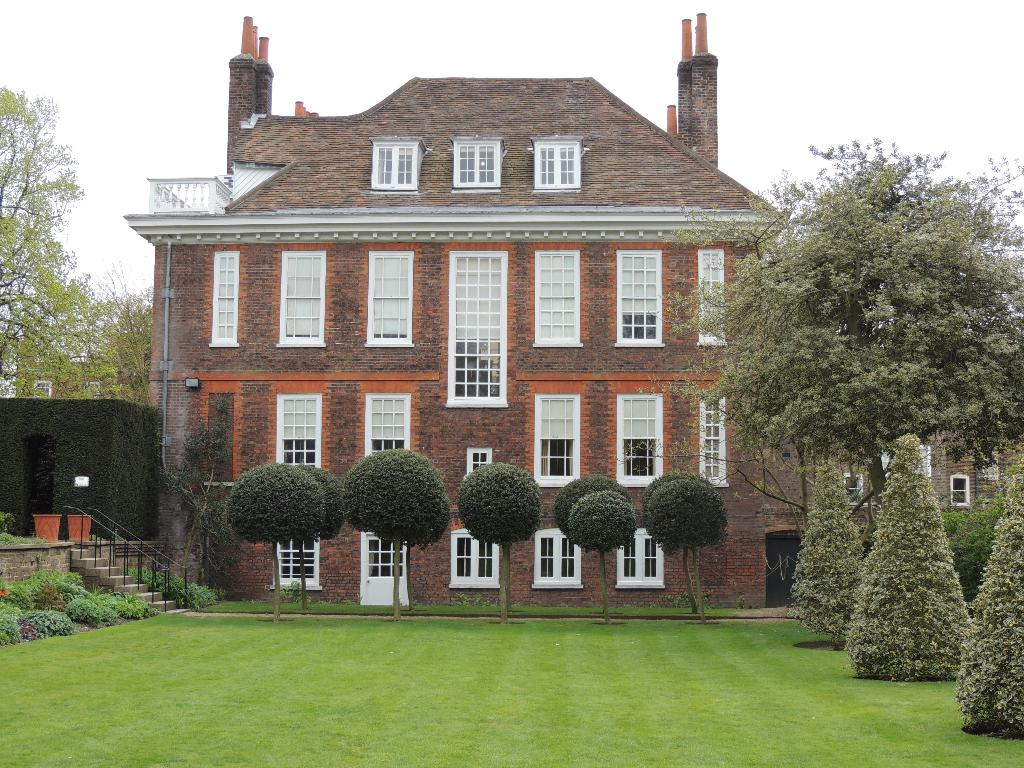Tree: (641, 137, 1024, 548), (0, 78, 109, 397), (98, 278, 151, 407)
